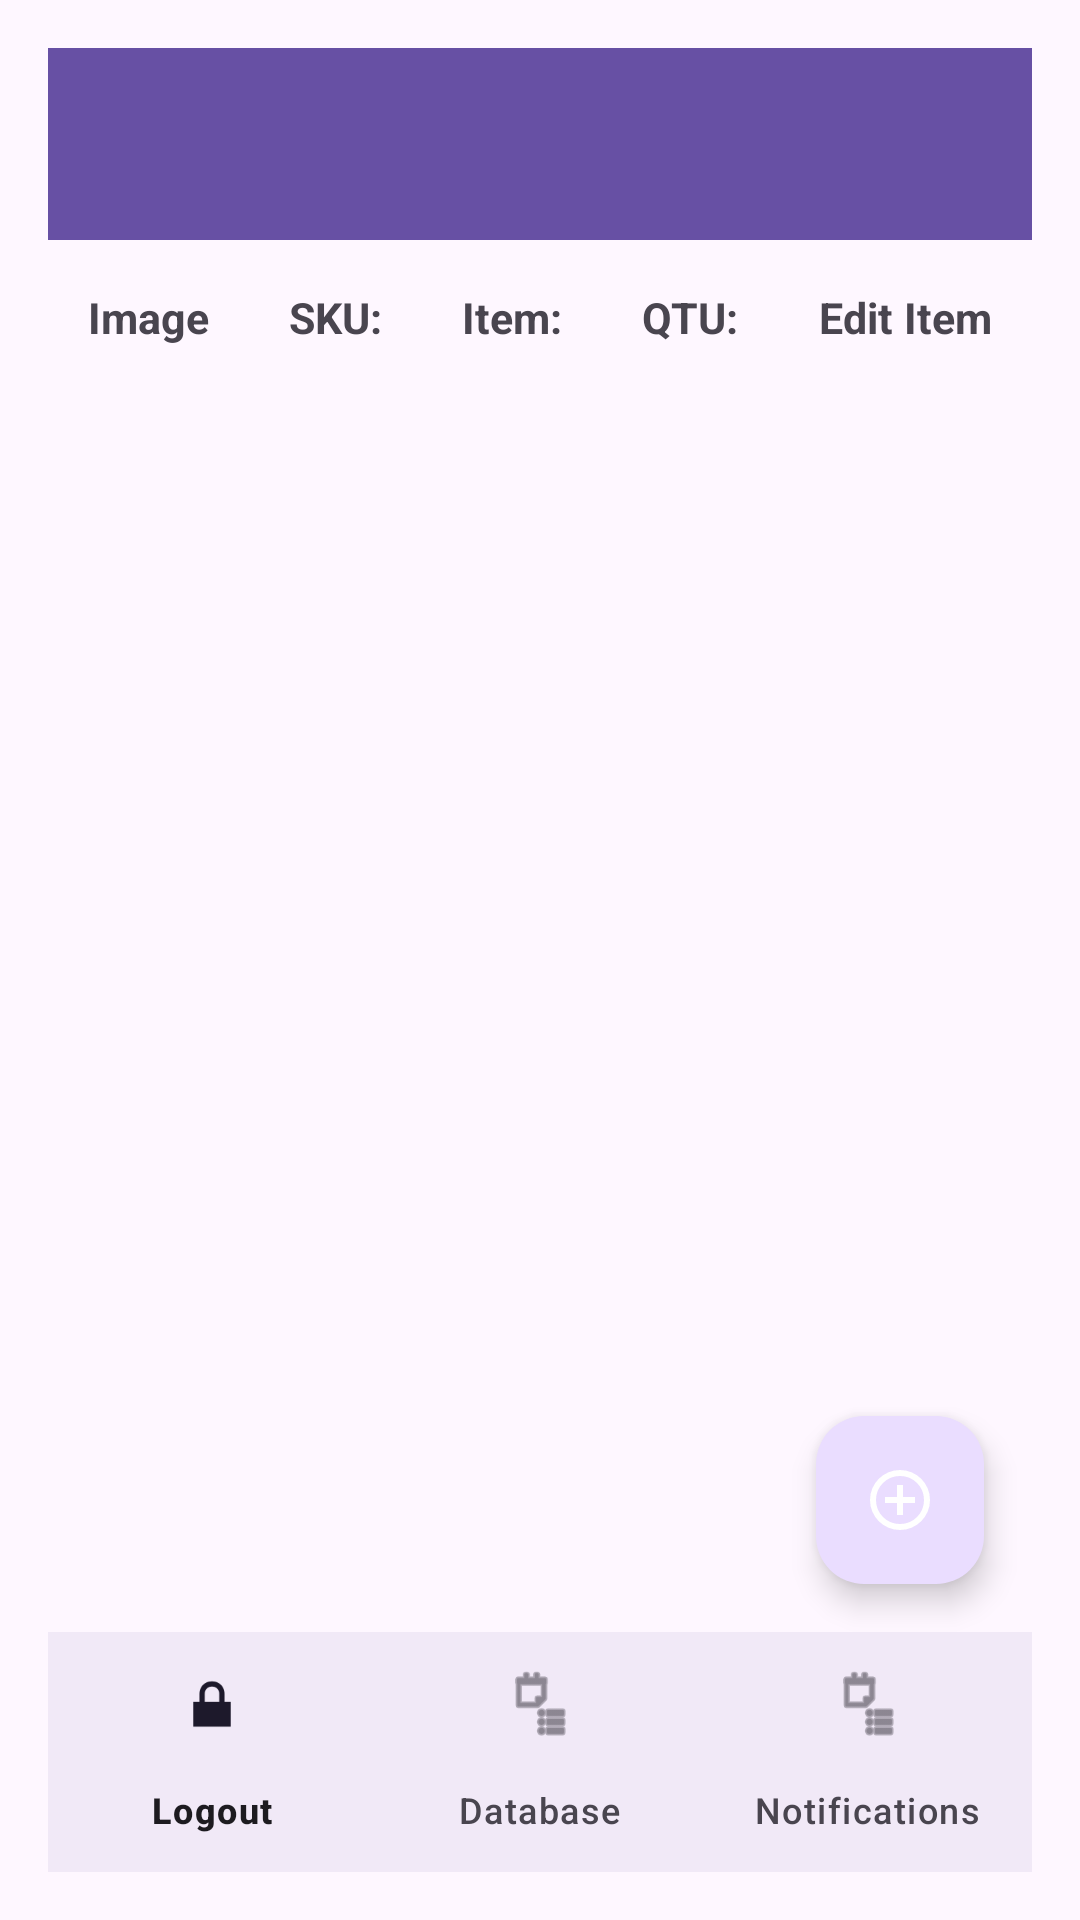

Locate icon controls on the screen. Image size 1080*1920, boxes as box(x1, y1, x2, y2).
Add Item: box(816, 1416, 984, 1584)
